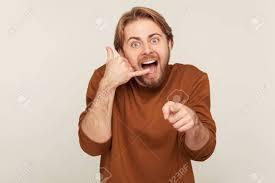Call-Me: (100, 45, 151, 86)
